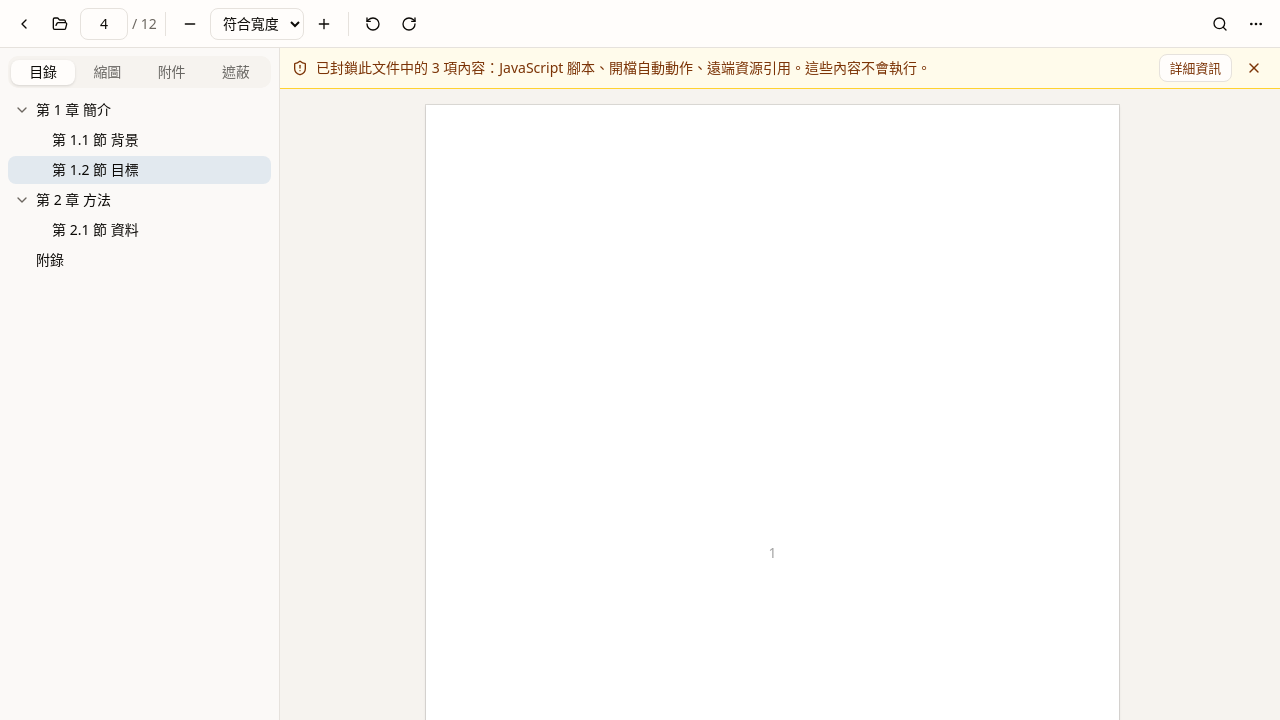
Test: open document › jumps to a page from the outline and from the page field
Click the list item "第 2 章 方法" at x=61, y=200, box top-left (12, 190), bottom-right (111, 210)
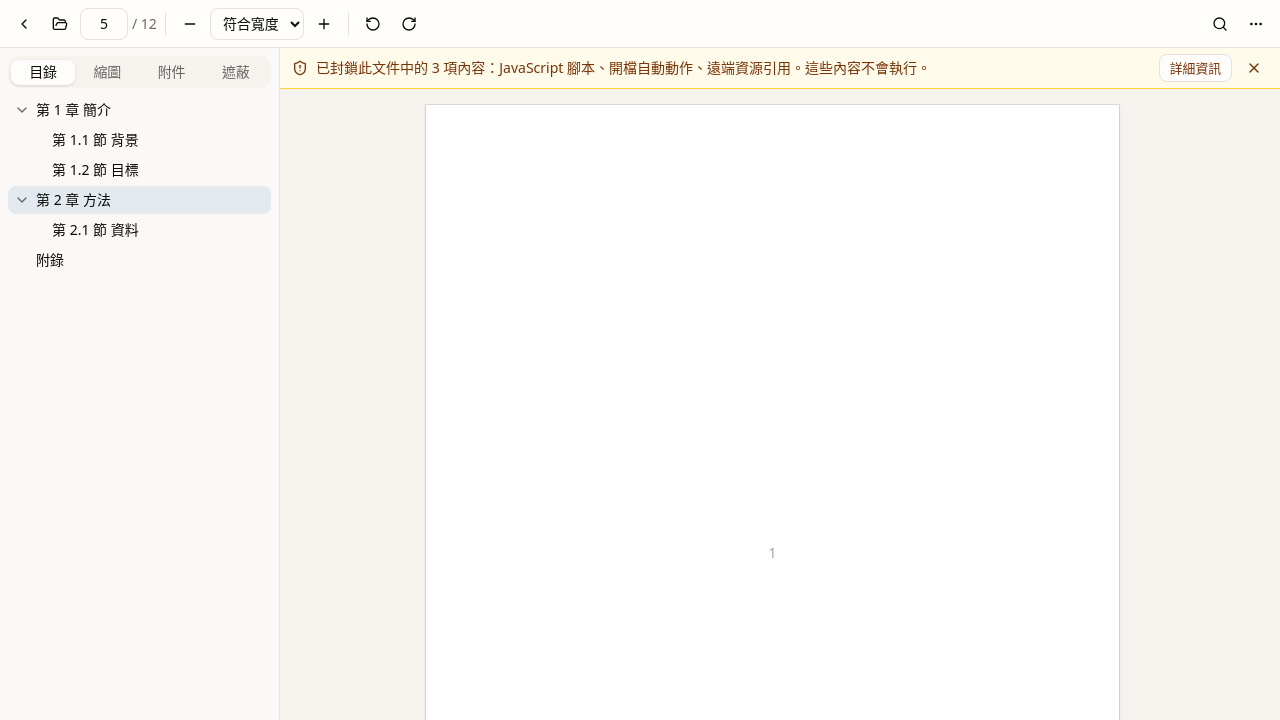
Replace the text in the field named "頁碼" with "99" at x=104, y=24, box top-left (80, 8), bottom-right (128, 40)
Then press Enter
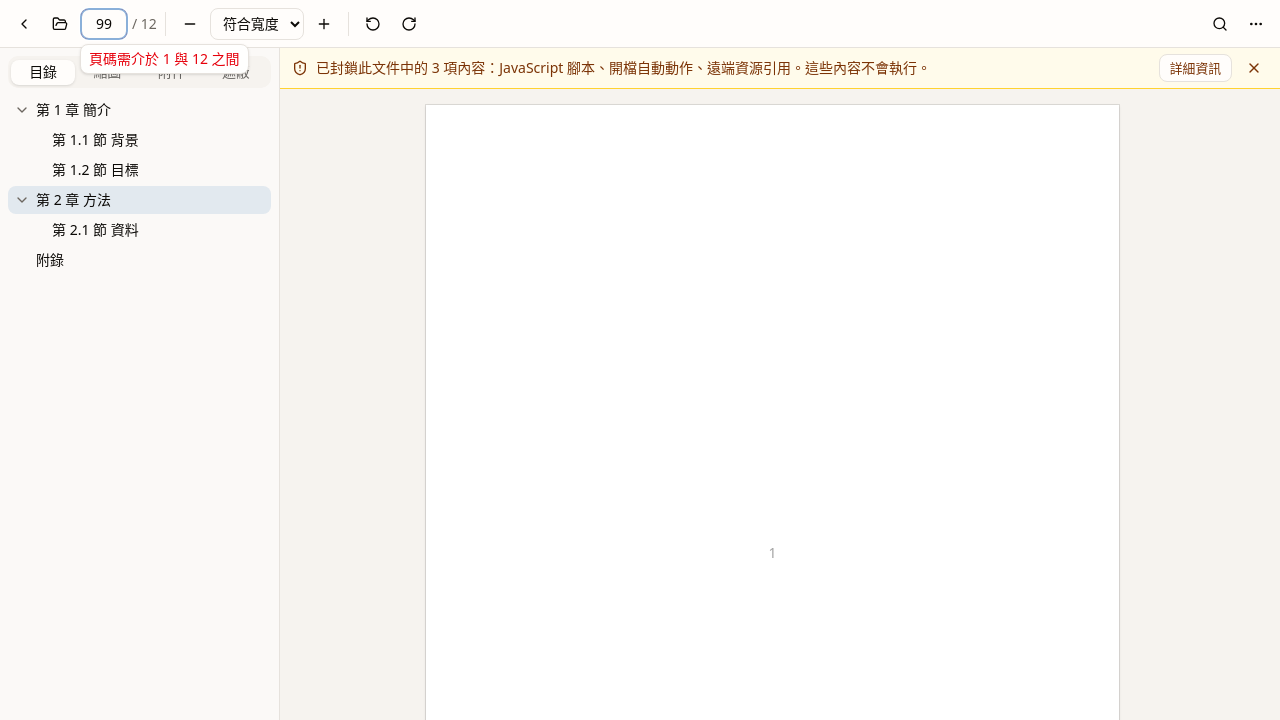
Replace the text in the field named "頁碼" with "3" at x=104, y=24, box top-left (80, 8), bottom-right (128, 40)
Then press Enter
(page scrolled)
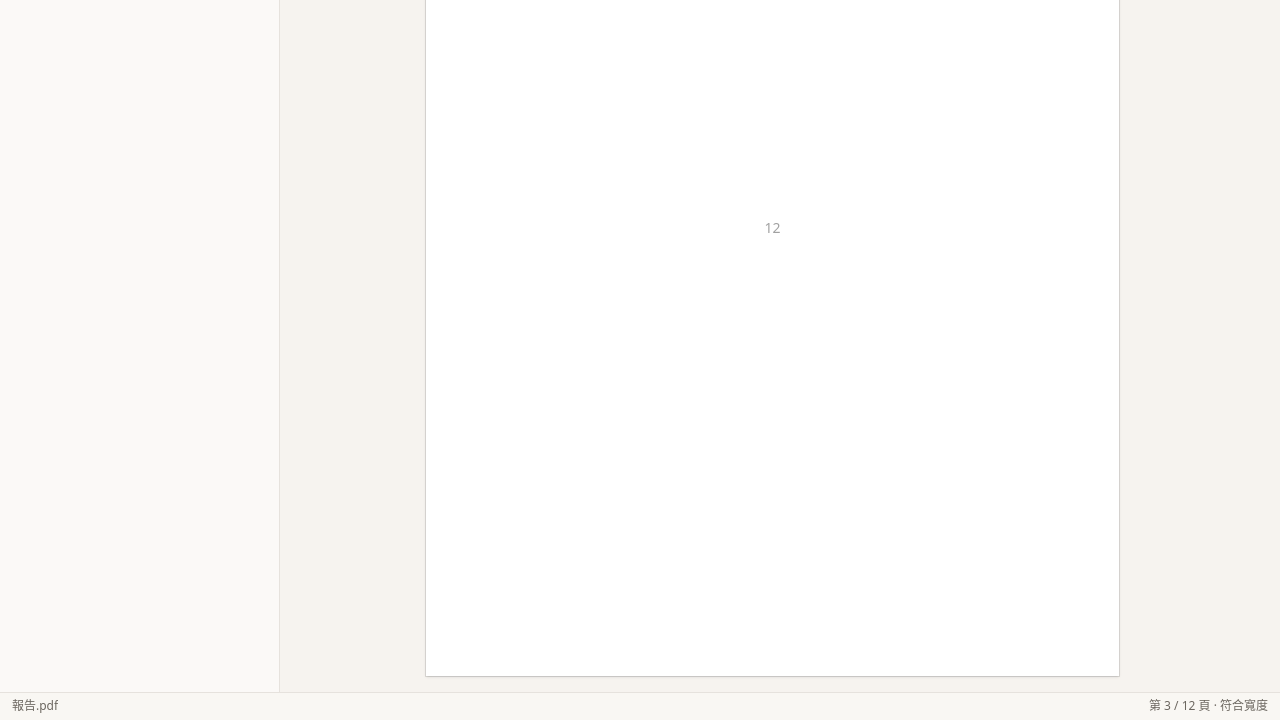
Now the footer shows "第 3 / 12 頁", box top-left (1149, 697), bottom-right (1268, 714)
